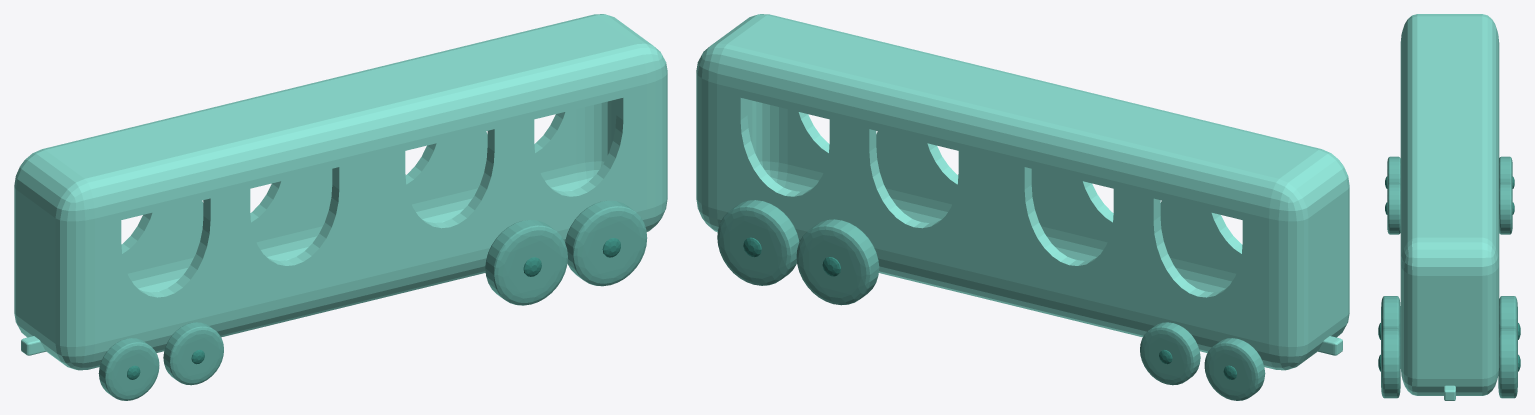
Rendered from wagons_saxo.glb.
3 renders of one model, left to right at view 1: azimuth 30°, elevation 25°; view 2: azimuth 150°, elevation 25°; view 3: azimuth 270°, elevation 25°, orthographic. The views are drawn at different scales.
Parts seen in each view (by area): view 1: wagon_saxo, roue.032, roue.033, roue.035, roue.034; view 2: wagon_saxo, roue.031, roue.030, roue.028, roue.029; view 3: wagon_saxo, roue.033, roue.030, roue.035, roue.028, roue.032, roue.031, roue.034, roue.029.
Boxes of the visible parts, <box> form: wagon_saxo: <box>14,14,667,370</box>; roue.032: <box>485,220,567,305</box>; roue.033: <box>565,200,647,286</box>; roue.035: <box>163,322,223,385</box>; roue.034: <box>98,338,159,400</box>; wagon_saxo: <box>696,14,1349,370</box>; roue.031: <box>796,219,879,305</box>; roue.030: <box>717,200,799,285</box>; roue.028: <box>1140,322,1200,385</box>; roue.029: <box>1204,338,1265,400</box>; wagon_saxo: <box>1400,14,1499,400</box>; roue.033: <box>1378,327,1400,398</box>; roue.030: <box>1498,327,1520,398</box>; roue.035: <box>1385,182,1400,234</box>; roue.028: <box>1499,182,1514,234</box>; roue.032: <box>1378,296,1400,339</box>; roue.031: <box>1499,296,1520,339</box>; roue.034: <box>1385,156,1400,188</box>; roue.029: <box>1499,156,1514,188</box>.
Size of the model in its own units: 109 by 35.65 by 25.9.
